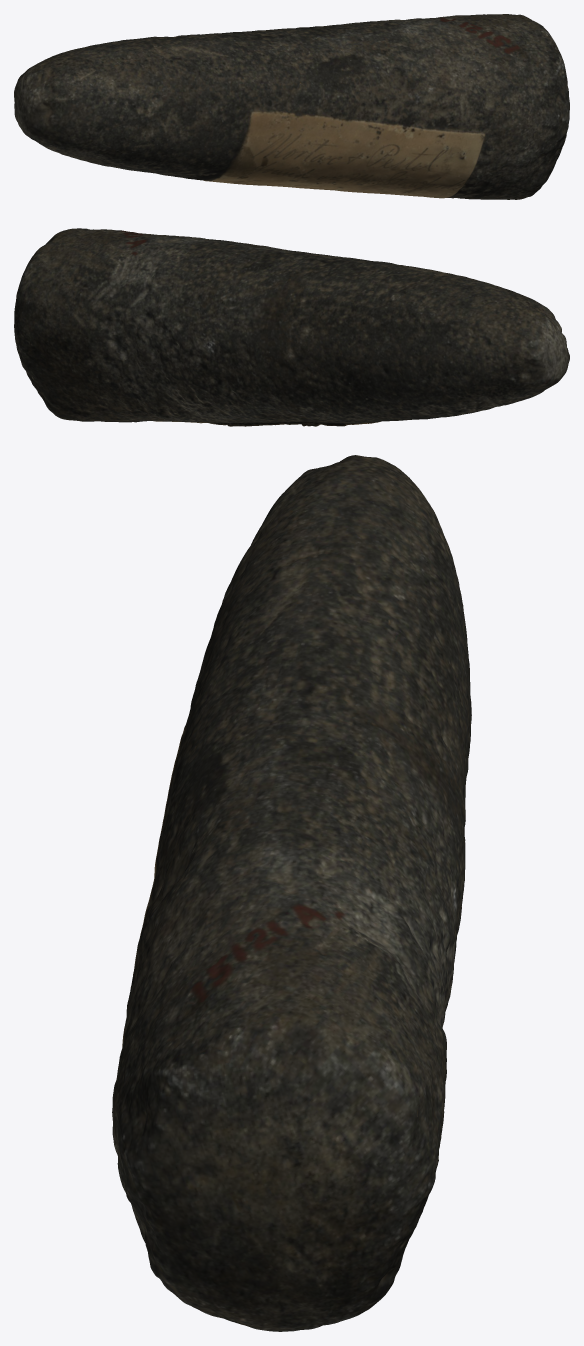
3 views of the same model, one above another, from view 1: azimuth 30°, elevation 25°; view 2: azimuth 150°, elevation 25°; view 3: azimuth 270°, elevation 25° (orthographic). The views are drawn at different scales.
Parts seen in each view (by area): view 1: Node; view 2: Node; view 3: Node.
Boxes of the visible parts, x1,y1,x2,y2 form: Node: [14, 14, 569, 199]; Node: [14, 228, 569, 426]; Node: [112, 455, 471, 1331].
Size of the model in its own units: 198 by 83.36 by 59.97.
1 material, 1 textured.
